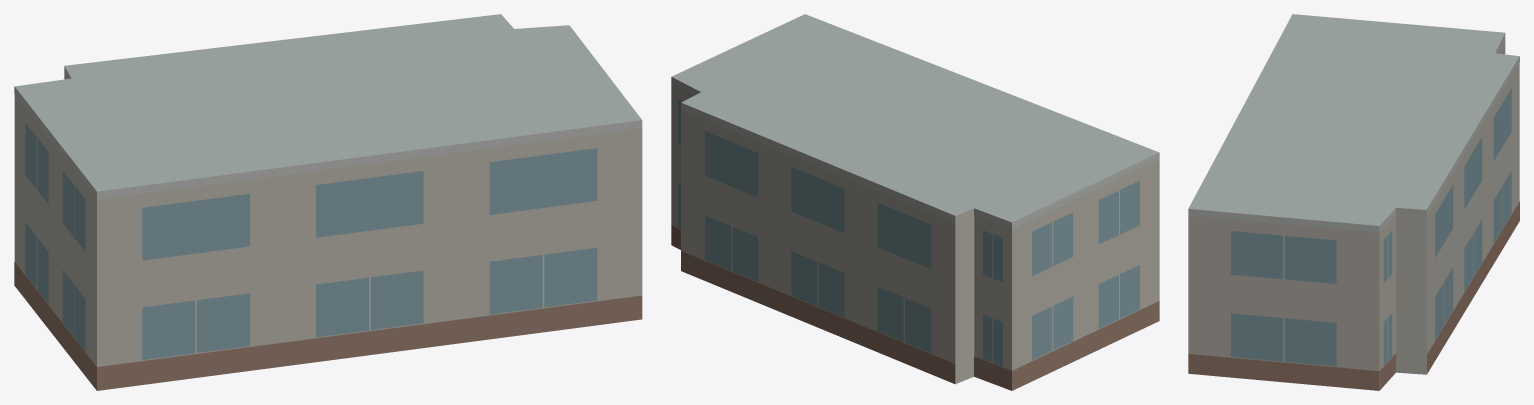
File: survey-upis-32701769.glb
The picture shows the model from 3 angles, left to right: view 1: azimuth 30°, elevation 25°; view 2: azimuth 150°, elevation 25°; view 3: azimuth 270°, elevation 25°; orthographic projection. The views are drawn at different scales.
Visible parts, largest first — view 1: survey-upis-32701769.tmp; view 2: survey-upis-32701769.tmp; view 3: survey-upis-32701769.tmp.
Boxes of the visible parts, <box> form: survey-upis-32701769.tmp: <box>14,14,642,390</box>; survey-upis-32701769.tmp: <box>671,14,1159,390</box>; survey-upis-32701769.tmp: <box>1188,14,1519,390</box>.
Bounding box in the file's own units: 16.84 × 6.1 × 11.13.
